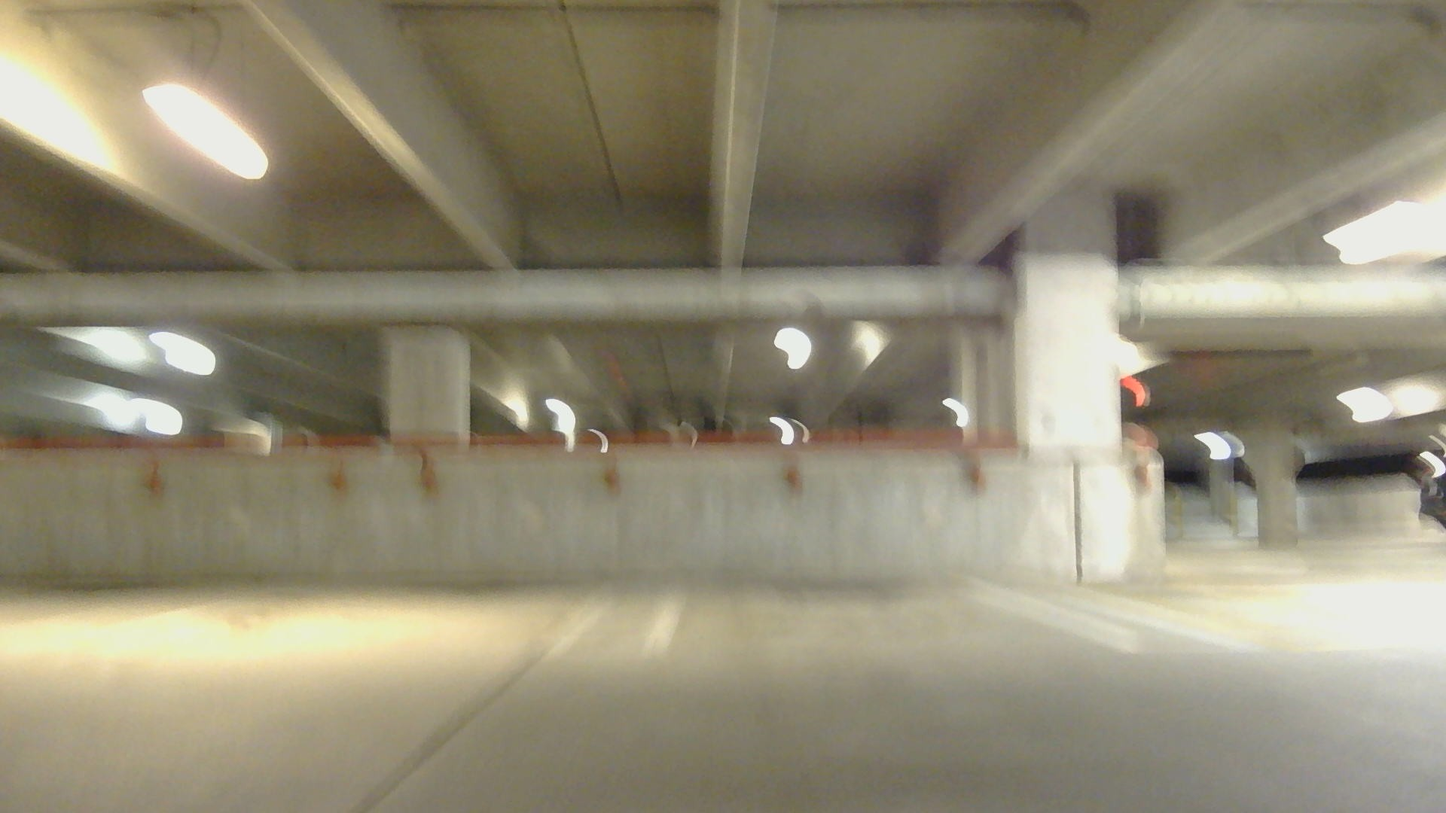empty_spot: (0, 515, 624, 662), (640, 530, 1164, 655)
